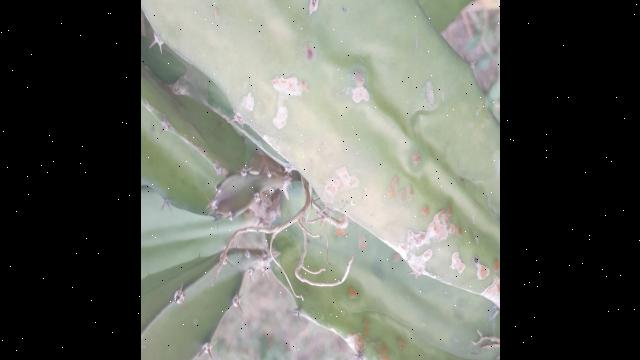stemcanker: (398, 205, 456, 276), (314, 154, 367, 207), (408, 71, 442, 117), (338, 71, 379, 109), (268, 74, 314, 102), (446, 246, 469, 279), (472, 258, 493, 284)
